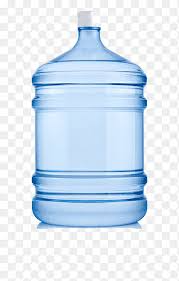bottle: (26, 8, 151, 236)
